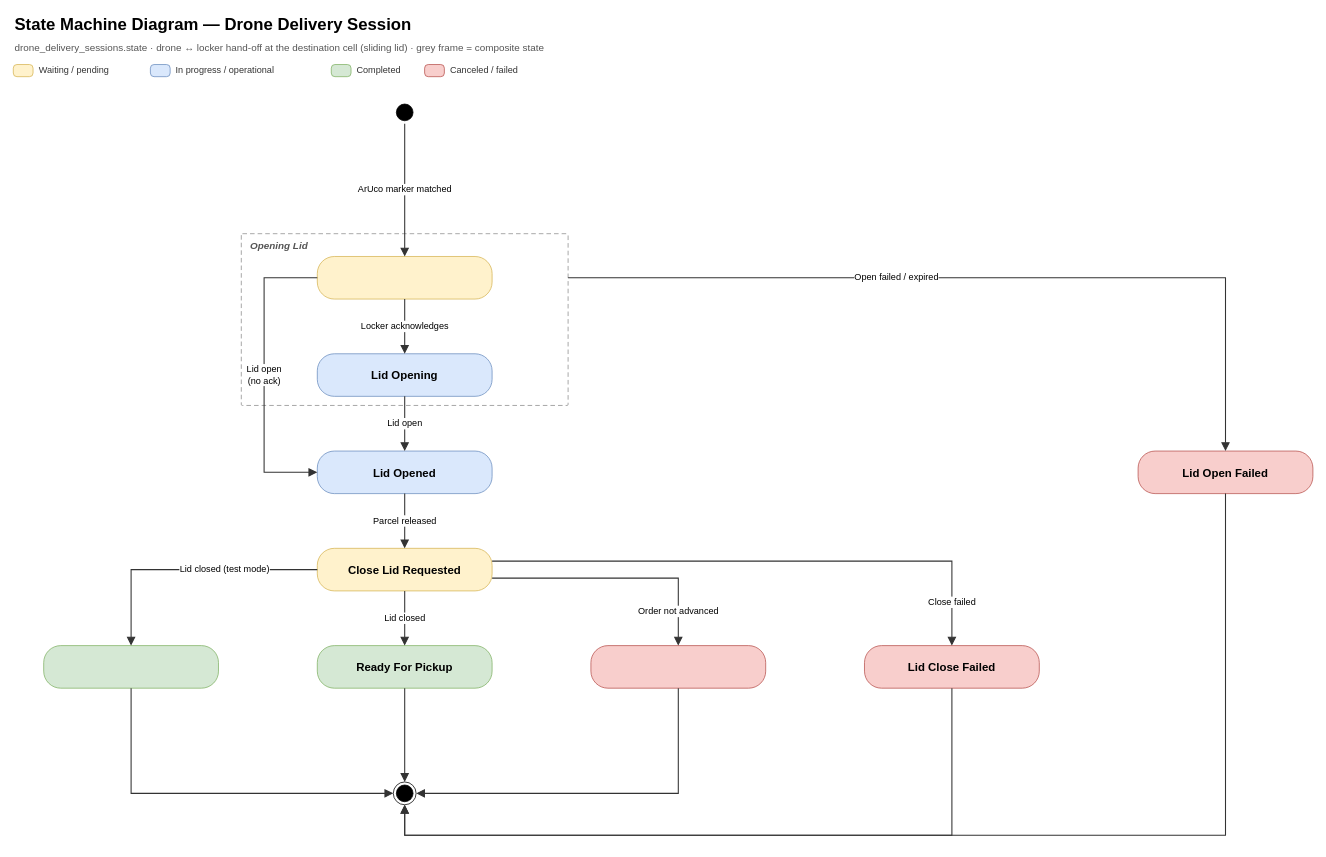
This 1326x857 diagram has some shape labels left out. The shapes that lost their labels are listed below. From the top down, each one's box as (x1, y1, x2, y2) in pixels, then its label:
(317, 256, 492, 299): Open Lid Requested
(43, 645, 218, 688): Test Completed
(590, 645, 766, 688): Aborted
